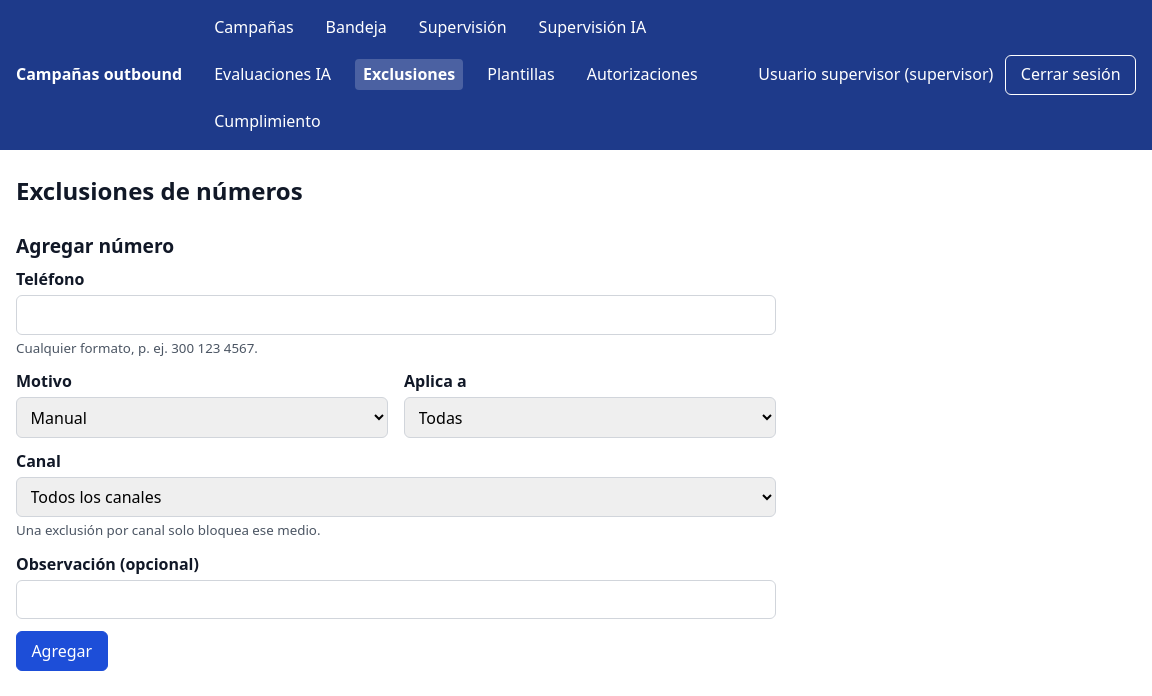
Test: Exclusiones › elegir motivo RNE preselecciona "Venta" como alcance
expect the field labelled "Teléfono" is shown: met, box [16,295,776,335]
Select "Registro de Números Excluidos (RNE)" in the dropdown labelled "Motivo". click: (202, 418)
box: [16,398,388,438]
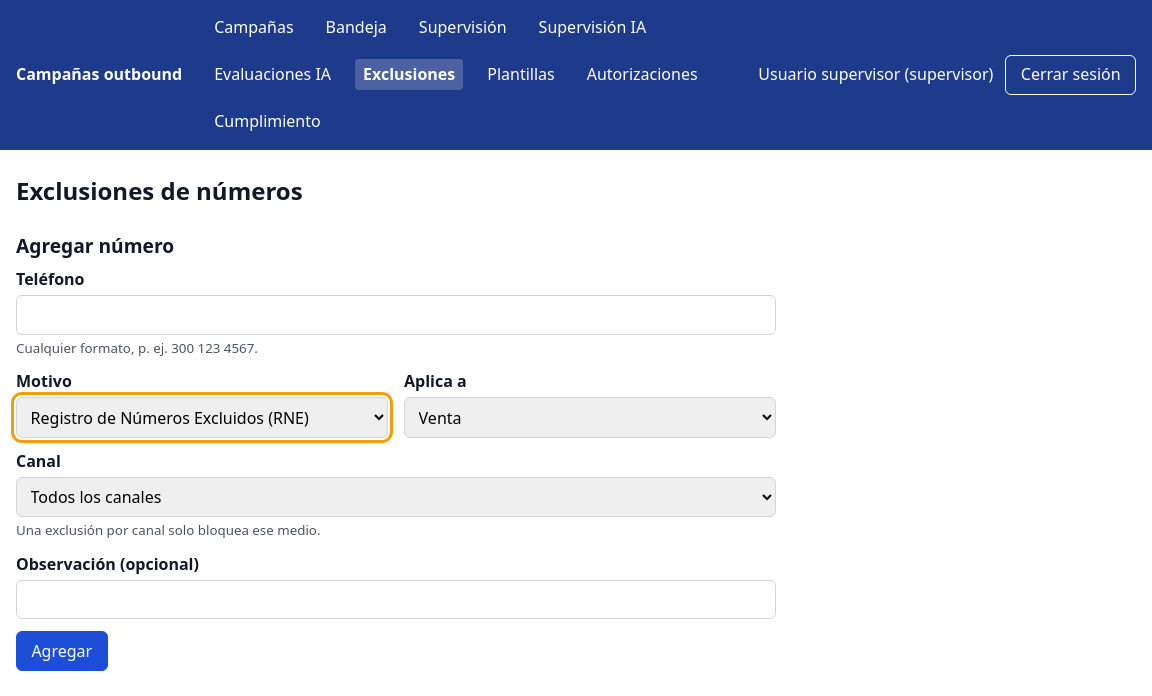
expect the dropdown labelled "Aplica a" shows "Venta": met, box [404,398,776,438]
